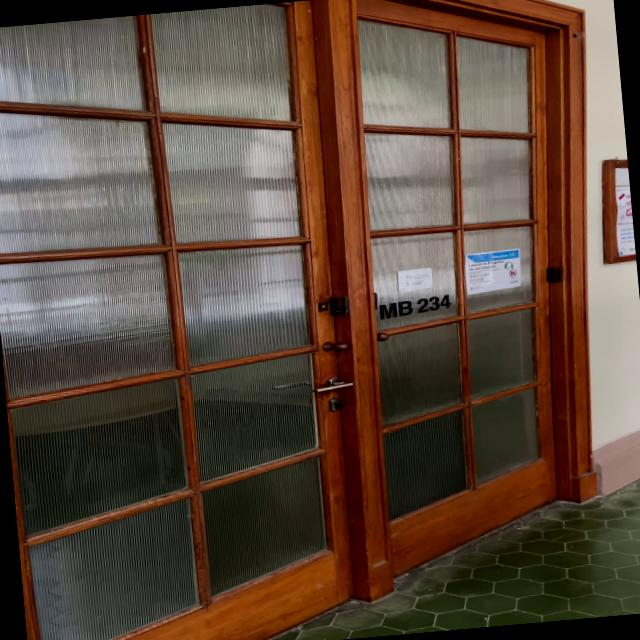room234Window: (372, 290, 454, 320)
